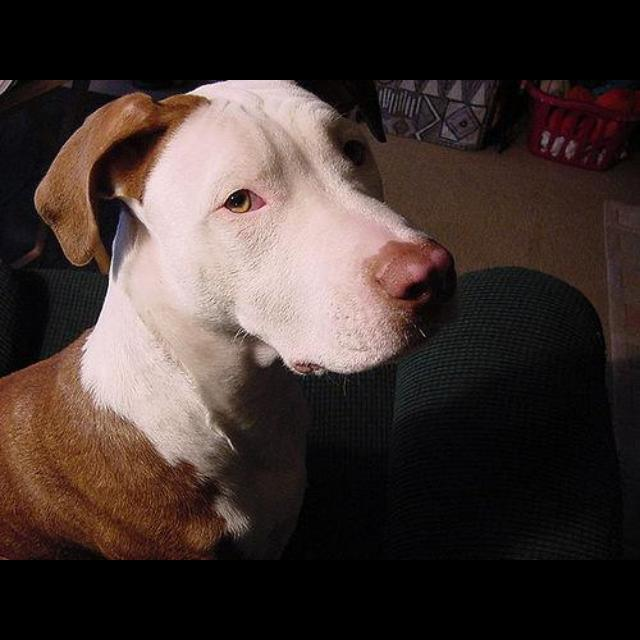amstaff: (1, 81, 459, 559)
